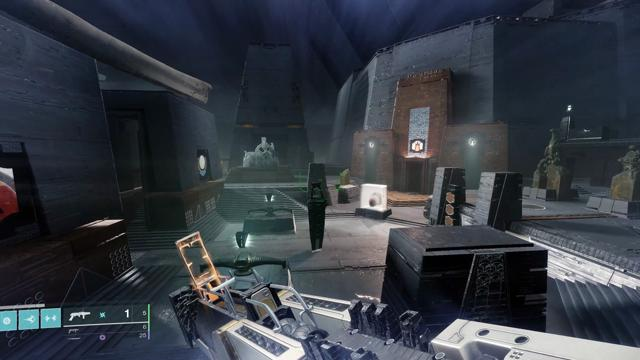pyramid: (0, 167, 19, 222)
traveler: (198, 155, 207, 176)
worship: (412, 141, 423, 151)
